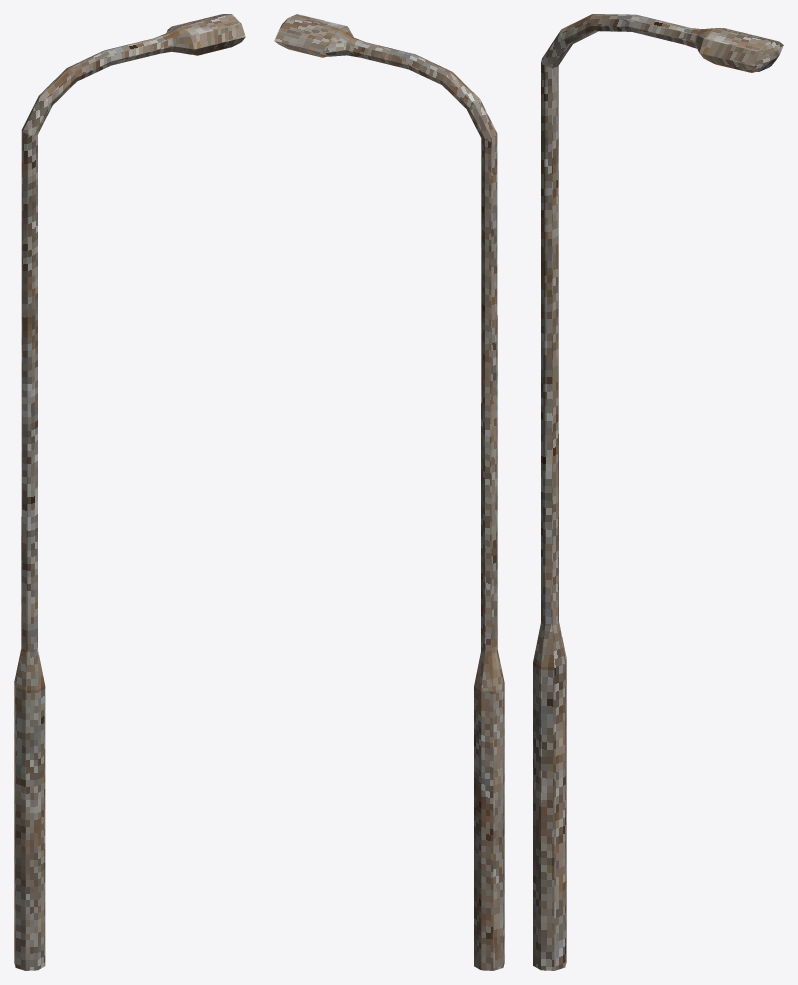
The model's file is Lamppost.glb.
3 renders of one model, left to right at view 1: azimuth 30°, elevation 25°; view 2: azimuth 150°, elevation 25°; view 3: azimuth 330°, elevation 25°, orthographic. The views are drawn at different scales.
Visible parts, largest first — view 1: Cube; view 2: Cube; view 3: Cube.
Boxes of the visible parts, x1=… form: Cube: x1=14, y1=14, x2=245, y2=970; Cube: x1=274, y1=14, x2=504, y2=970; Cube: x1=533, y1=14, x2=783, y2=970.
Bounding box in the file's own units: 5.89 × 22.69 × 1.23.
Materials: 2 (1 with a texture image).
